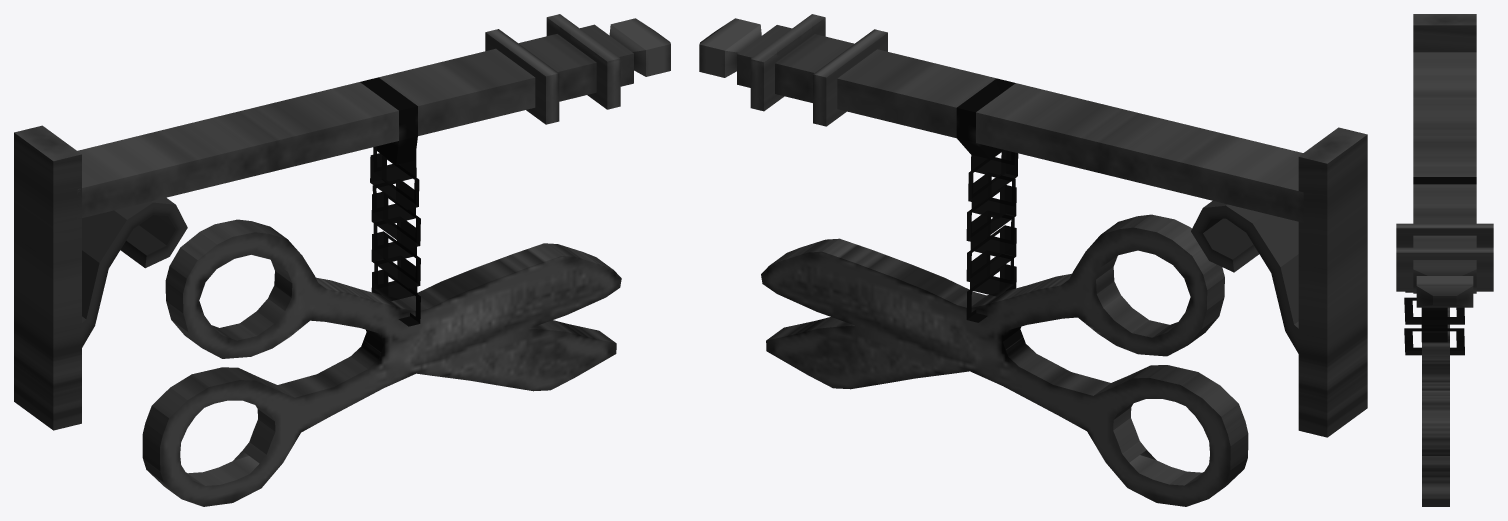
Rendered from sign_360x05.gltf.
The picture shows the model from 3 angles, left to right: view 1: azimuth 30°, elevation 25°; view 2: azimuth 150°, elevation 25°; view 3: azimuth 270°, elevation 25°; orthographic projection. The views are drawn at different scales.
Parts seen in each view (by area): view 1: sign_360x05; view 2: sign_360x05; view 3: sign_360x05.
Boxes of the visible parts, left/top/right/bottom form: sign_360x05: left=14, top=14, right=670, bottom=506; sign_360x05: left=699, top=14, right=1367, bottom=506; sign_360x05: left=1396, top=14, right=1493, bottom=506.
Size of the model in its own units: 2.93 by 1.74 by 0.4887.
Materials: 1 (1 with a texture image).
